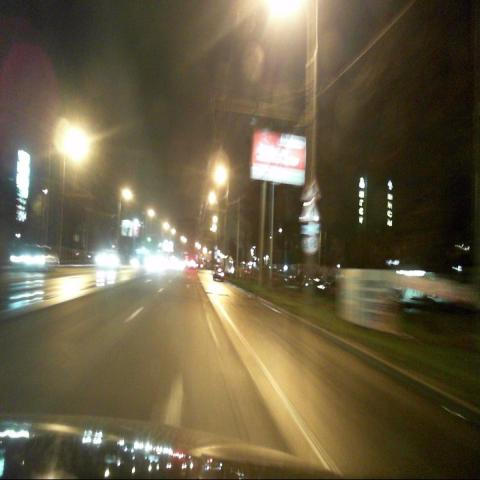1_25: (306, 176, 321, 198)
3_24: (308, 236, 319, 254)
